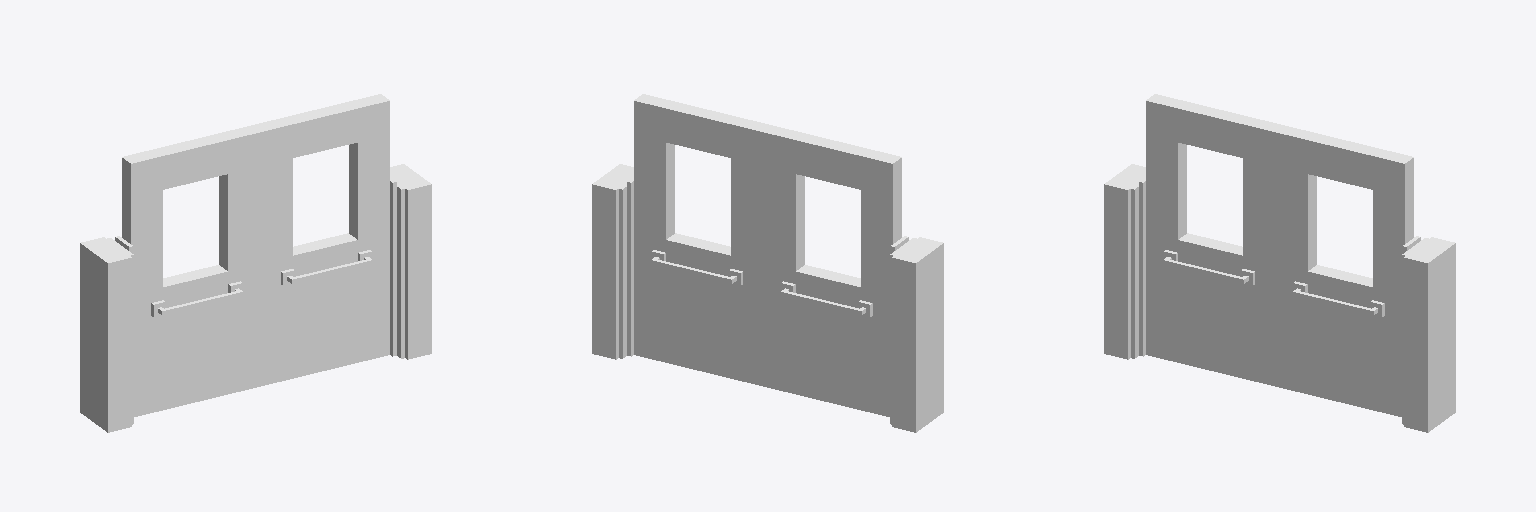
Rendered from DoubleDoorClose.obj.
3 views of the same model, side by side, from view 1: azimuth 30°, elevation 25°; view 2: azimuth 150°, elevation 25°; view 3: azimuth 330°, elevation 25° (orthographic).
Parts seen in each view (by area): view 1: DoubleDoorClose; view 2: DoubleDoorClose; view 3: DoubleDoorClose.
Boxes of the visible parts, x1=… form: DoubleDoorClose: x1=80, y1=94, x2=431, y2=432; DoubleDoorClose: x1=592, y1=94, x2=943, y2=432; DoubleDoorClose: x1=1104, y1=94, x2=1455, y2=432.
Size of the model in its own units: 80 by 60 by 12.